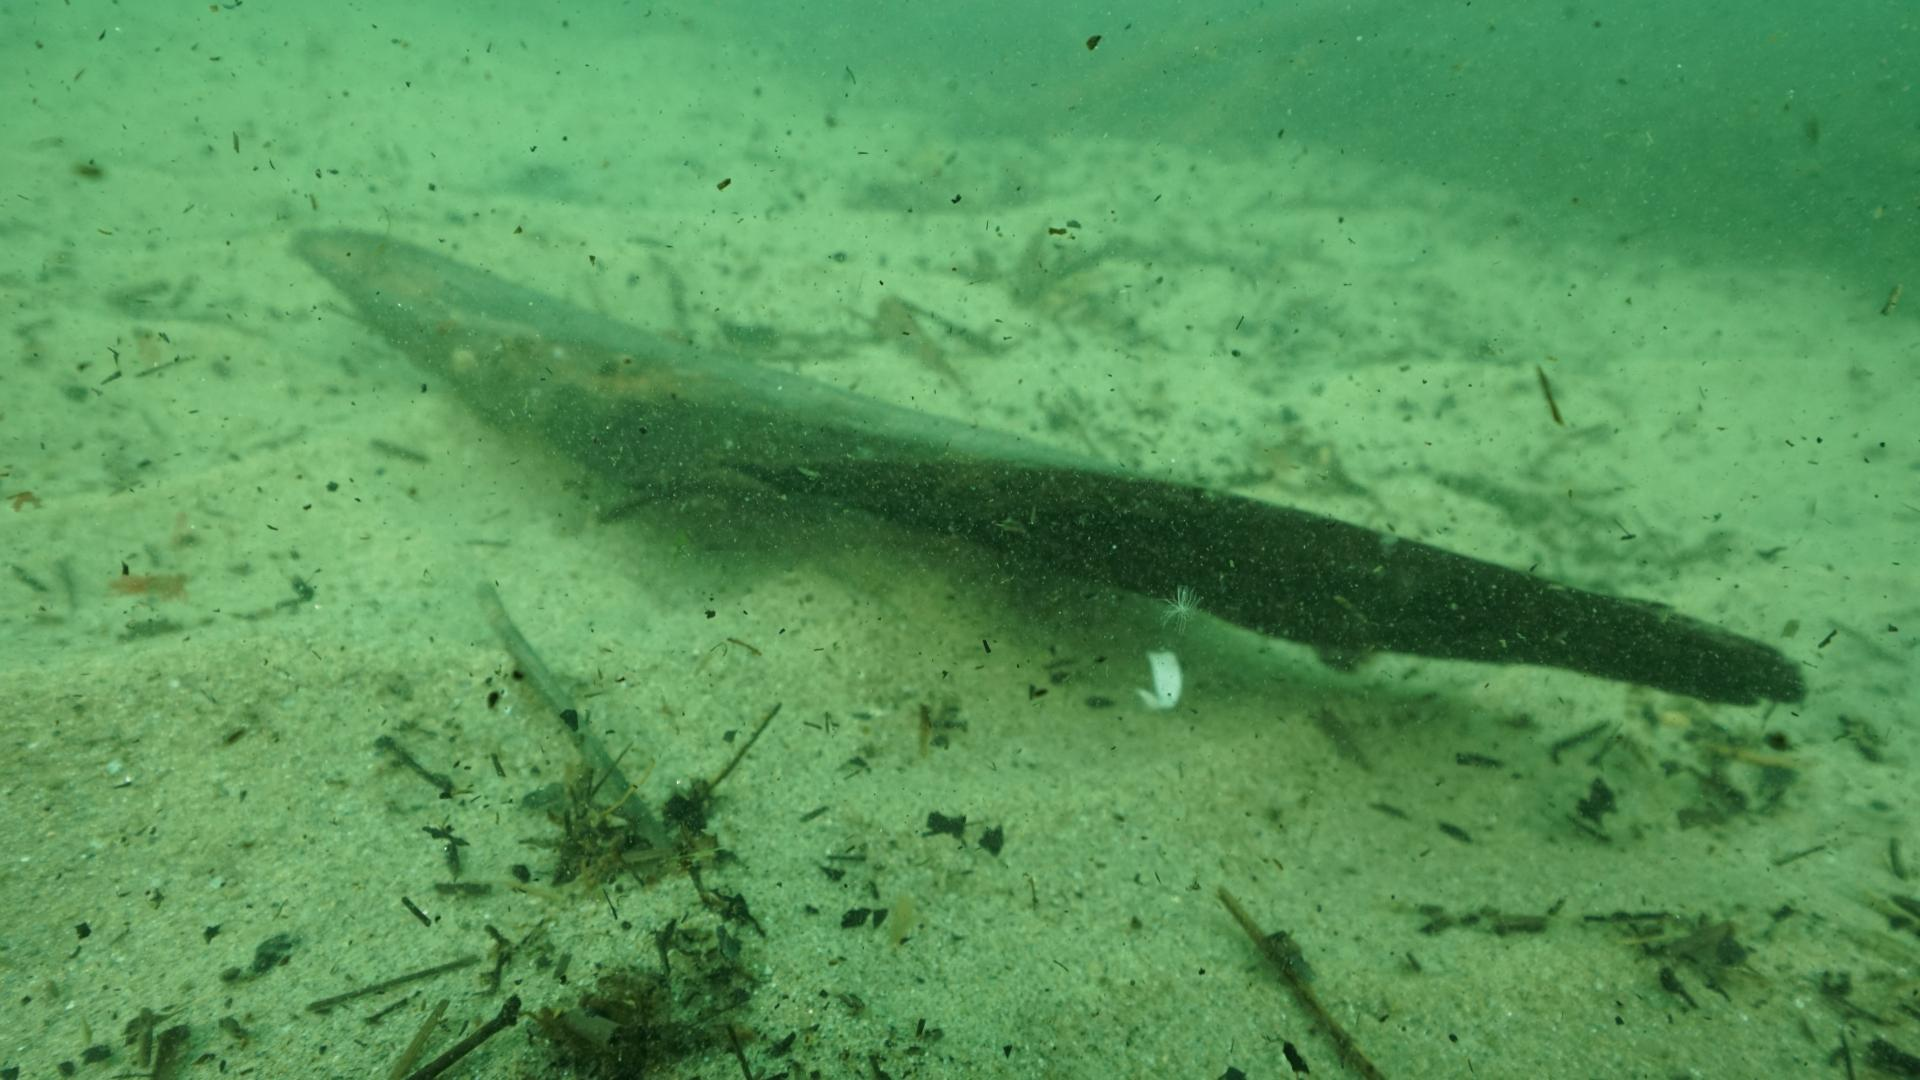wood: (293, 232, 1797, 703)
